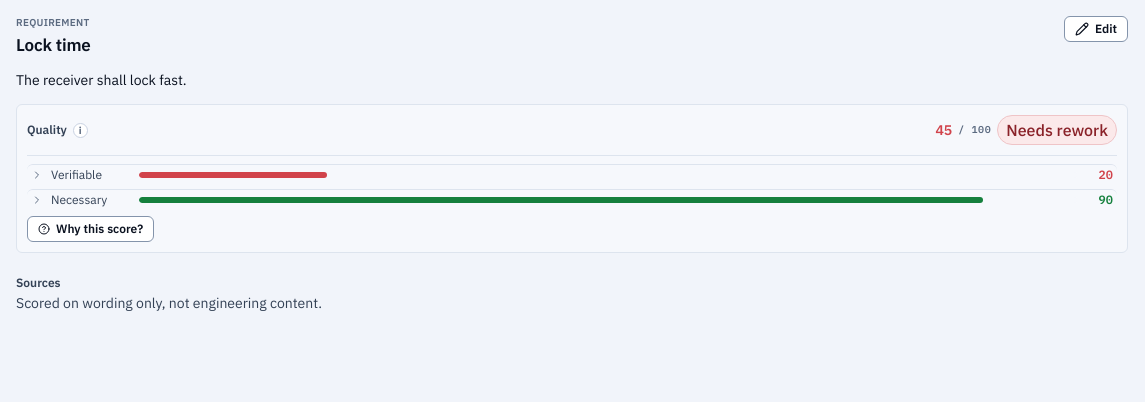
Test: NodeDetailPanel: why this score › offers the explanation for a scored requirement and asks the orchestrator for this item
The image size is (1145, 402).
What coordinates should you click on to do the following:
click the button "Why this score?"
I would click on:
 (91, 229)
Its box is left=27, top=216, right=154, bottom=242.
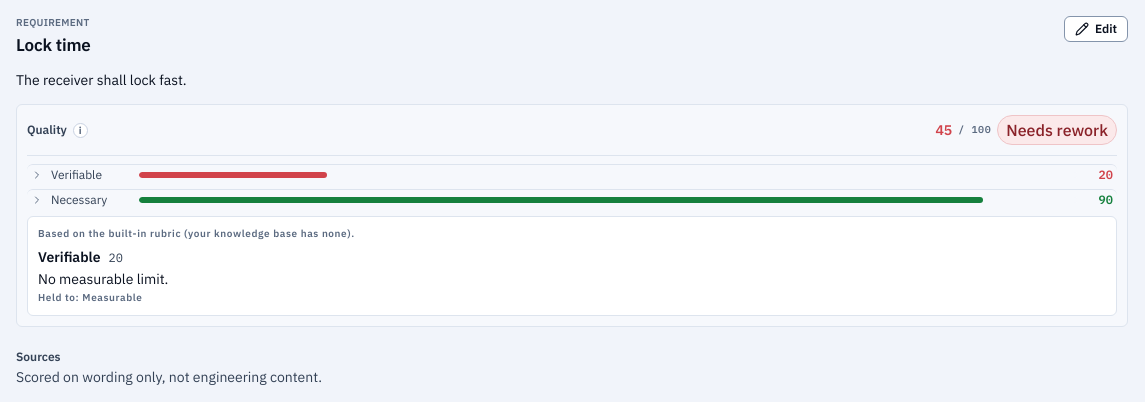
Now the text "No measurable limit." is shown, box left=38, top=270, right=168, bottom=288
